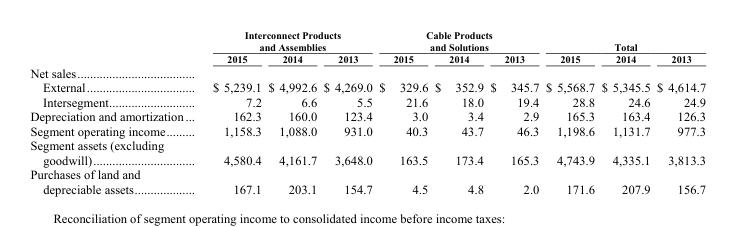table: (29, 29, 705, 195)
table column: (29, 29, 197, 195), (197, 29, 264, 195), (319, 29, 375, 195), (430, 29, 486, 195), (541, 29, 597, 195), (264, 29, 319, 195), (375, 29, 430, 195), (486, 29, 541, 195), (597, 29, 652, 195), (652, 29, 705, 195)
table column header: (29, 29, 705, 64)
table projected row header: (29, 64, 705, 79)
table row: (29, 137, 705, 166), (29, 166, 705, 195), (29, 29, 705, 52), (29, 64, 705, 79), (29, 79, 705, 94), (29, 108, 705, 123), (29, 94, 705, 108), (29, 123, 705, 137), (29, 52, 705, 64)
table spanning cell: (197, 29, 375, 52), (375, 29, 541, 52), (541, 29, 705, 52)
